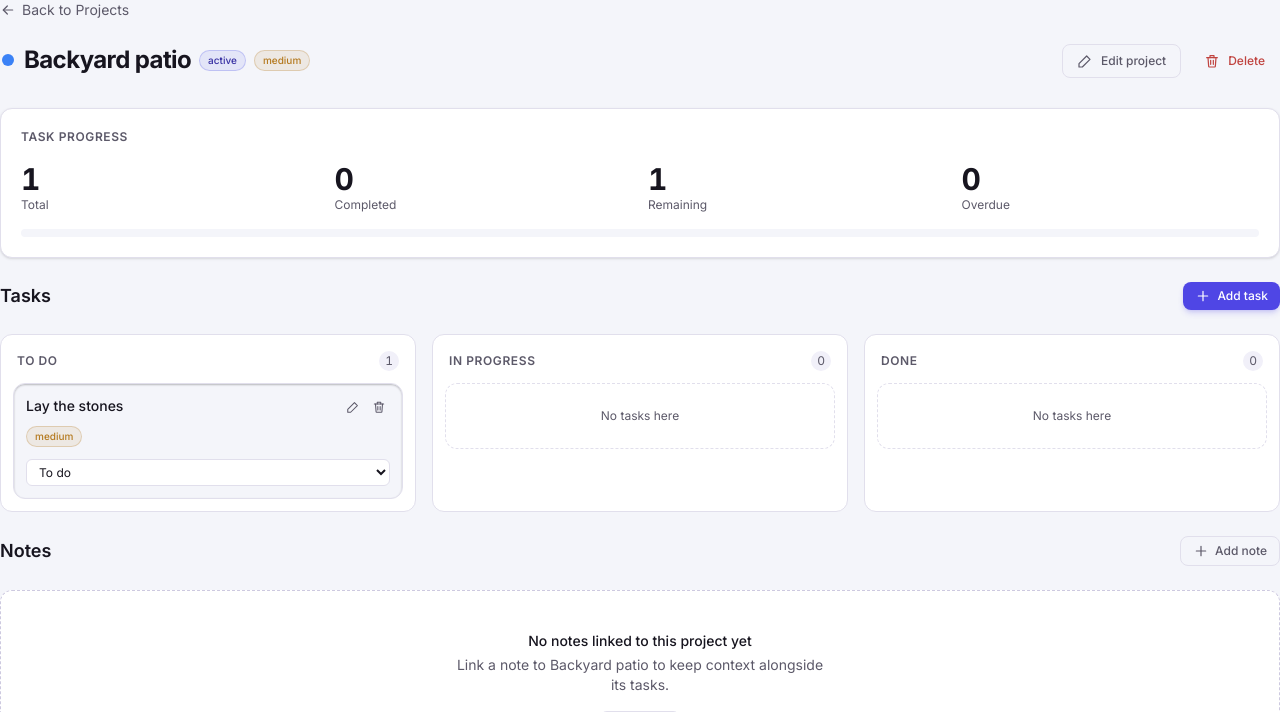
Test: ProjectDetailPage › deletes a project, redirects to the list, and preserves its tasks as unassigned
Expected: the heading "Backyard patio" is shown, [24,44,191,76]
Click the button "Delete" at (1235, 61), box [1189,44,1279,78]
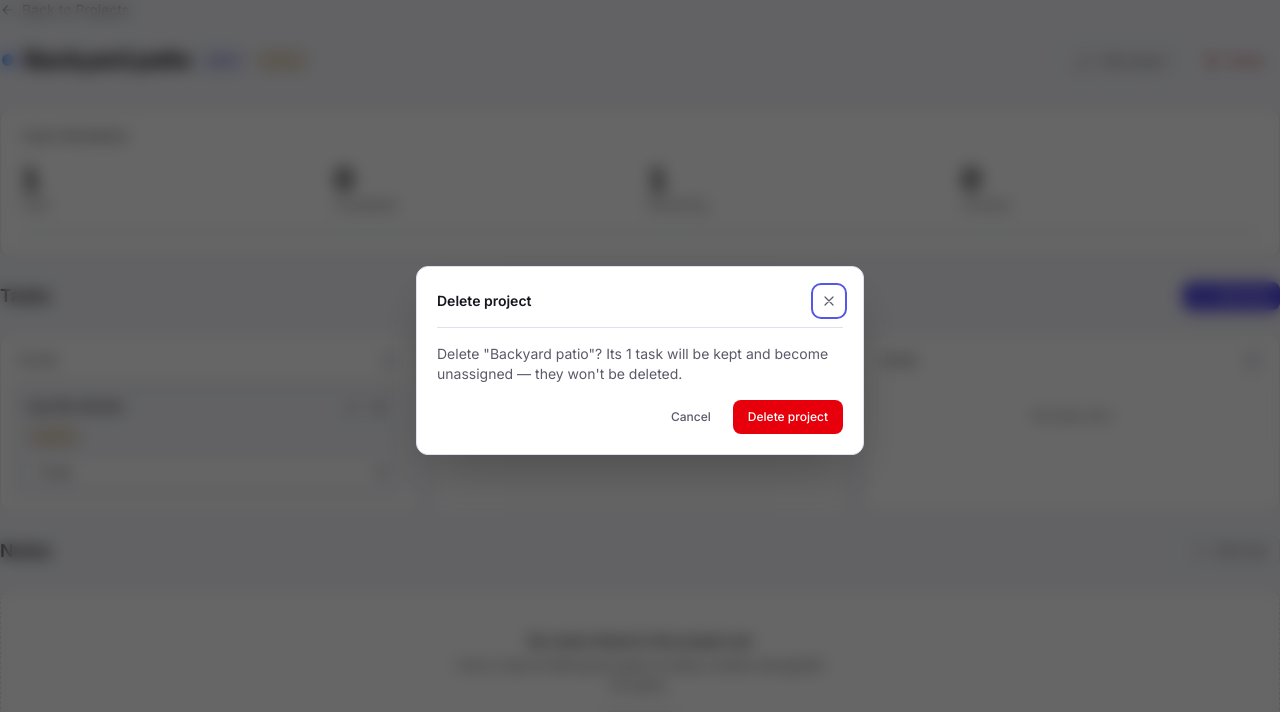
Now the dialog shows "kept and become unassigned", box [437,344,828,382]
Click the button "Delete project" at (788, 416), box [733,400,843,434]
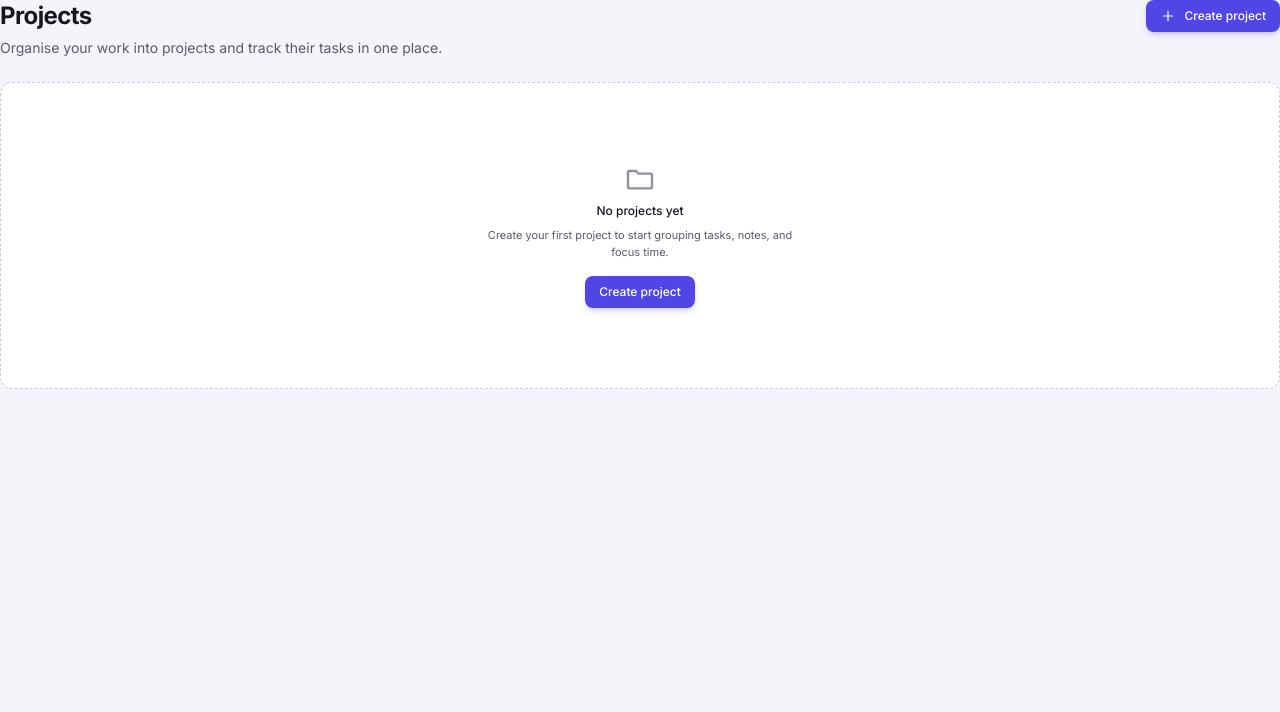
Now the heading "Projects" is shown, box [0,1,92,30]
Now the heading "Backyard patio" is gone
